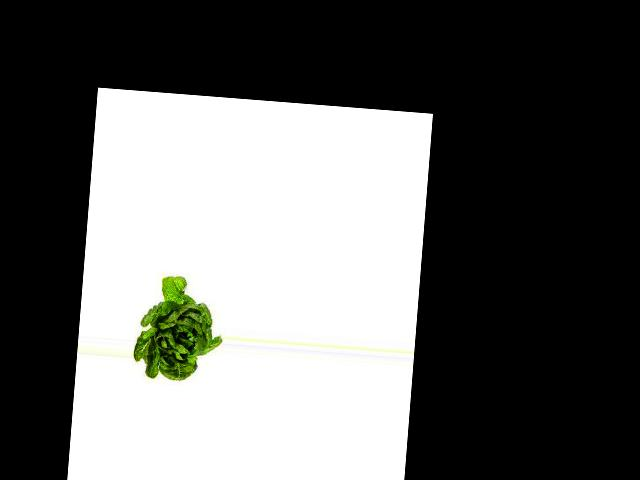lettuce: (135, 269, 225, 388)
